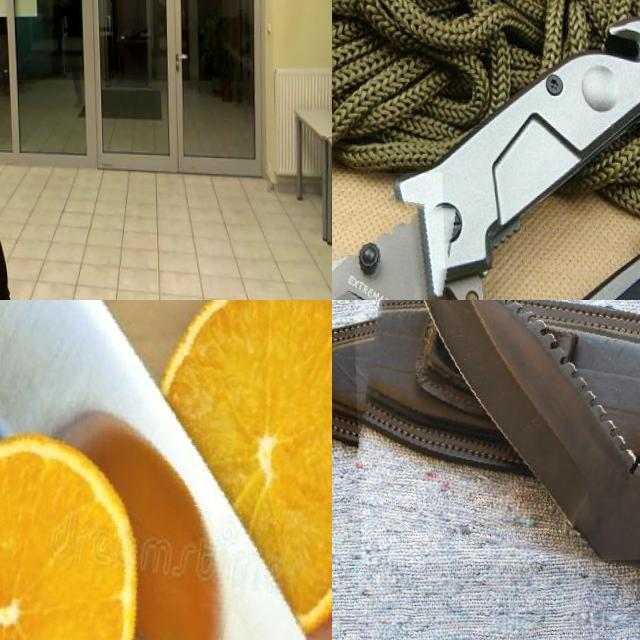-: (0, 300, 332, 640), (351, 300, 640, 564), (332, 173, 485, 300)
gun-knife-thesis - v11 Yolov5 augmented: (0, 65, 17, 101)
